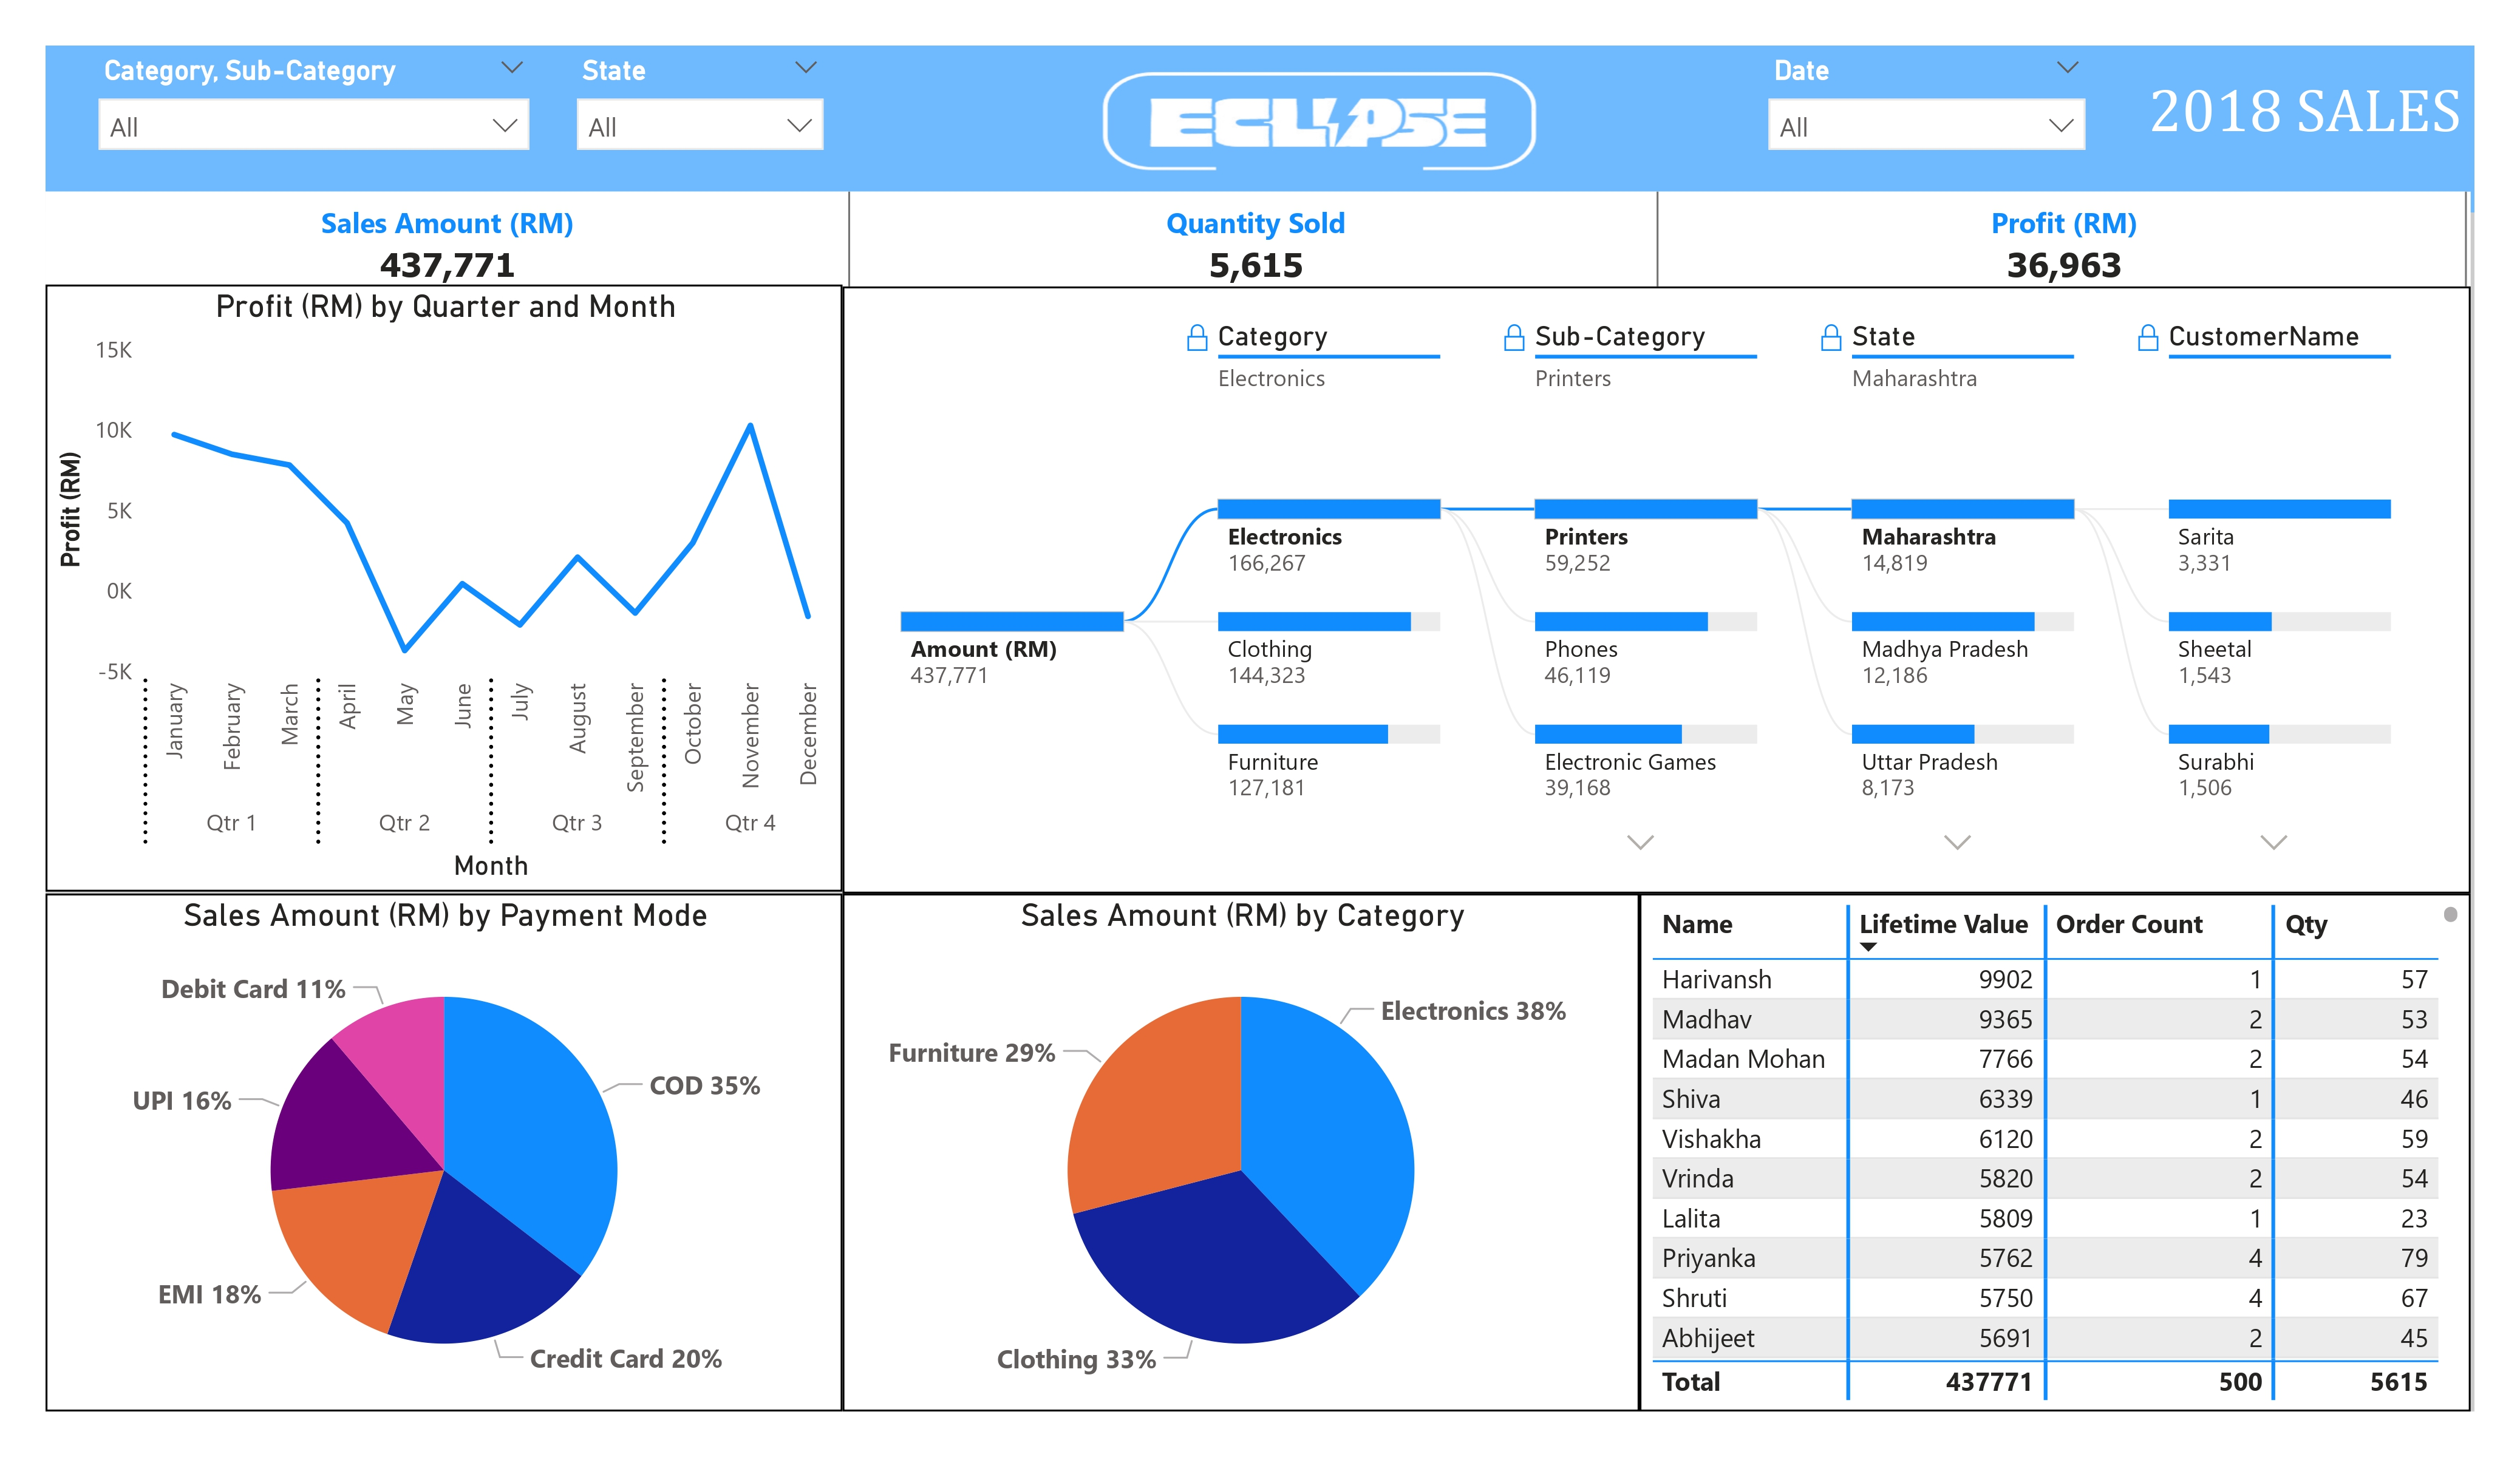

Layout of this report page (visuals, bound fields, positions):
{"tool":"powerbi","page":{"name":"ECLIPSE SALES DASHBOARD","canvas":[1280,720],"ordinal":0},"visuals":[{"type":"shape","box":[0,0,1280,88.3],"z":0},{"type":"image","box":[545,0,250,76.7],"z":1000},{"type":"cardVisual","fields":{"Data":["Details-Orders.Amount","Details-Orders.Quantity","Details-Orders.Profit"]},"box":[0,76.7,1278.3,50],"z":2000},{"type":"lineChart","fields":{"Y":["Details-Orders.Profit"],"Category":["Details-Orders.Order Date.Variation.Date Hierarchy.Quarter","Details-Orders.Order Date.Variation.Date Hierarchy.Month"]},"box":[0,126.2,420,320],"z":3000},{"type":"pieChart","fields":{"Category":["Details-Orders.PaymentMode"],"Y":["Details-Orders.Amount"]},"box":[0,446.7,420,273.3],"z":4000},{"type":"slicer","fields":{"Values":["Details-Orders.Category","Details-Orders.Sub-Category"]},"box":[18.3,0,246.7,75],"z":5000},{"type":"slicer","fields":{"Values":["Details-Orders.State"]},"box":[270,0,150,75],"z":6000},{"type":"pieChart","fields":{"Y":["Details-Orders.Amount"],"Category":["Details-Orders.Category"]},"box":[420,446.7,420,273.3],"z":7000},{"type":"decompositionTreeVisual","fields":{"Analyze":["Details-Orders.Amount"],"ExplainBy":["Details-Orders.Category","Details-Orders.Sub-Category","Details-Orders.State","Details-Orders.CustomerName"]},"box":[420,126.7,858.3,320],"z":8000},{"type":"tableEx","fields":{"Values":["Details-Orders.CustomerName","Details-Orders.Customer Lifetime Value","Details-Orders.Order Count","Details-Orders.Quantity"]},"box":[840,446.7,438.3,273.3],"z":9000},{"type":"textbox","box":[1085,11.7,193.3,48.3],"z":9001},{"type":"slicer","fields":{"Values":["Details-Orders.Order Date.Variation.Date Hierarchy.Year","Details-Orders.Order Date.Variation.Date Hierarchy.Quarter","Details-Orders.Order Date.Variation.Date Hierarchy.Month"]},"box":[898.3,0,186.7,75],"z":9002}]}

Visuals, with their boxes on the page's 1280x720 design canvas (x1, y1, x2, y2). These are canvas units, not pixel positions in the 2520x1457 screenshot, which may show the page scaled, cropped or inside an application window:
shape: (0, 0, 1280, 88)
image: (545, 0, 795, 77)
cardVisual - Details-Orders.Amount x Details-Orders.Quantity: (0, 77, 1278, 127)
lineChart - Details-Orders.Profit x Details-Orders.Order Date.Variation.Date Hierarchy.Quarter: (0, 126, 420, 446)
pieChart - Details-Orders.PaymentMode x Details-Orders.Amount: (0, 447, 420, 720)
slicer - Details-Orders.Category x Details-Orders.Sub-Category: (18, 0, 265, 75)
slicer - Details-Orders.State: (270, 0, 420, 75)
pieChart - Details-Orders.Amount x Details-Orders.Category: (420, 447, 840, 720)
decompositionTreeVisual - Details-Orders.Amount x Details-Orders.Category: (420, 127, 1278, 447)
tableEx - Details-Orders.CustomerName x Details-Orders.Customer Lifetime Value: (840, 447, 1278, 720)
textbox: (1085, 12, 1278, 60)
slicer - Details-Orders.Order Date.Variation.Date Hierarchy.Year x Details-Orders.Order Date.Variation.Date Hierarchy.Quarter: (898, 0, 1085, 75)
